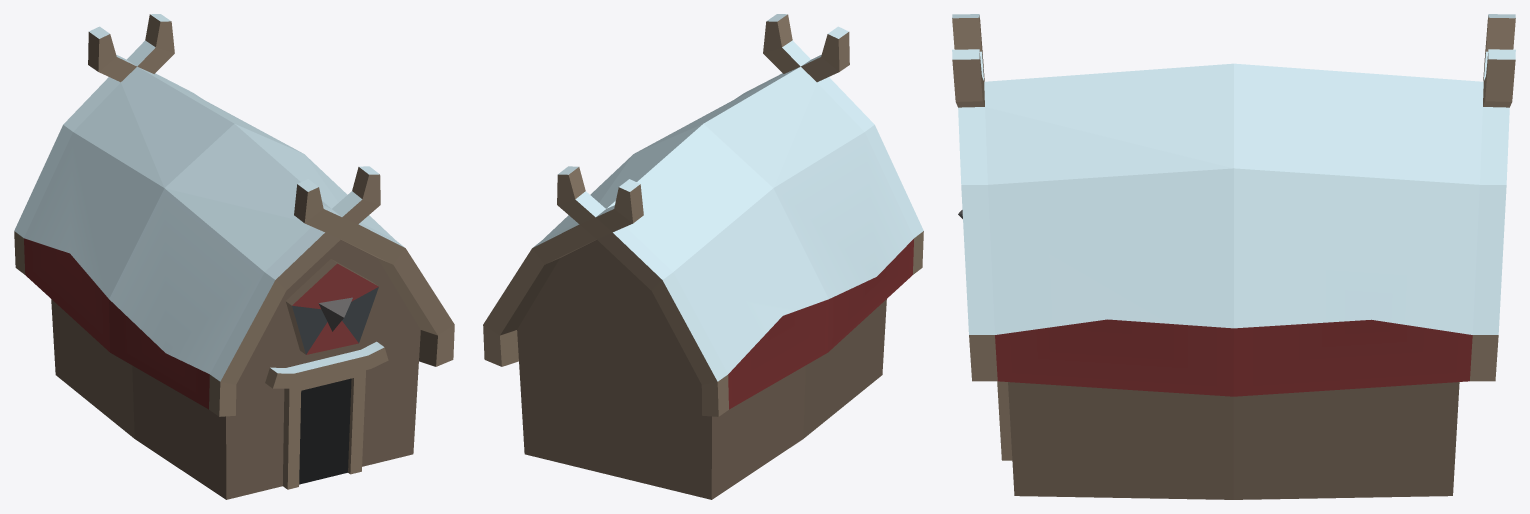
Rendered from SM_Bld_Viking_House_01_Snow.fbx.
3 views of the same model, side by side, from view 1: azimuth 30°, elevation 25°; view 2: azimuth 150°, elevation 25°; view 3: azimuth 270°, elevation 25° (orthographic). The views are drawn at different scales.
Parts seen in each view (by area): view 1: SM_Bld_Viking_House_01_Snow; view 2: SM_Bld_Viking_House_01_Snow; view 3: SM_Bld_Viking_House_01_Snow.
Part boxes in pixels (x1,y1,x2,y2): SM_Bld_Viking_House_01_Snow: (14, 14, 454, 499); SM_Bld_Viking_House_01_Snow: (483, 14, 923, 499); SM_Bld_Viking_House_01_Snow: (952, 14, 1515, 499).
Bounding box in the file's own units: 86.88 × 104 × 132.
1 material, 1 textured.
